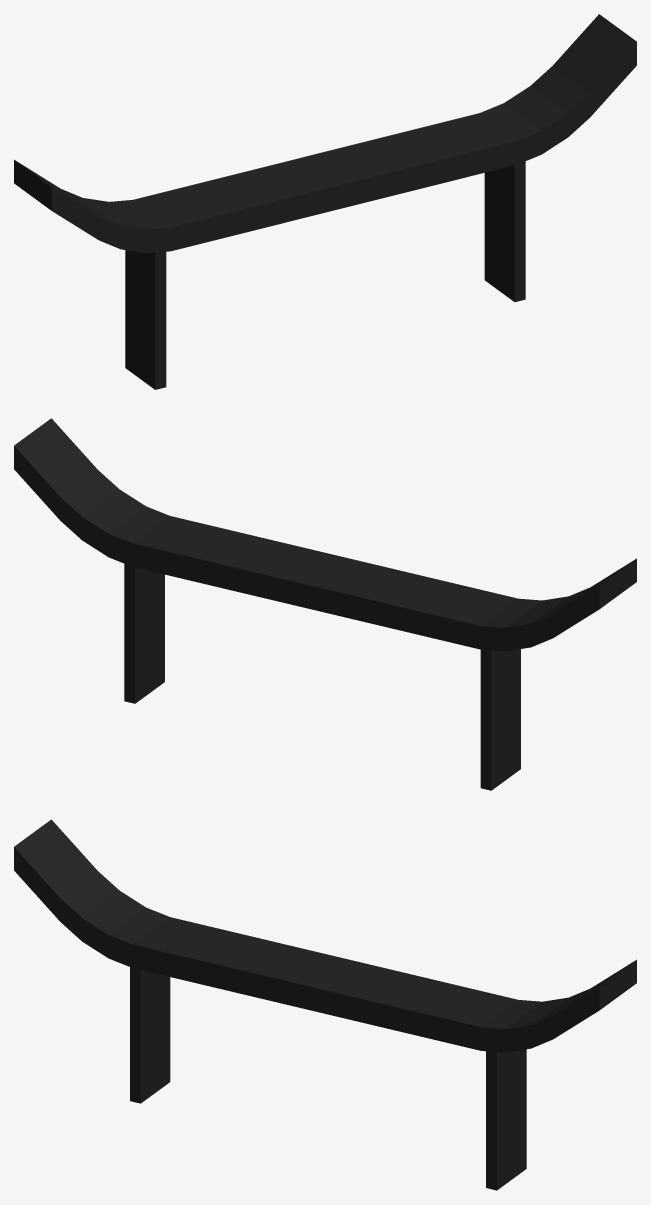
Rendered from spoiler2.glb.
3 renders of one model, top to bottom at view 1: azimuth 30°, elevation 25°; view 2: azimuth 150°, elevation 25°; view 3: azimuth 330°, elevation 25°, orthographic.
Parts seen in each view (by area): view 1: spoiler2; view 2: spoiler2; view 3: spoiler2.
Part boxes in pixels (left/top/right/bottom): spoiler2: left=14, top=14, right=636, bottom=389; spoiler2: left=14, top=418, right=636, bottom=790; spoiler2: left=14, top=819, right=636, bottom=1190.
Bounding box in the file's own units: 2.82 × 1.08 × 0.3376.
1 material, 1 textured.
